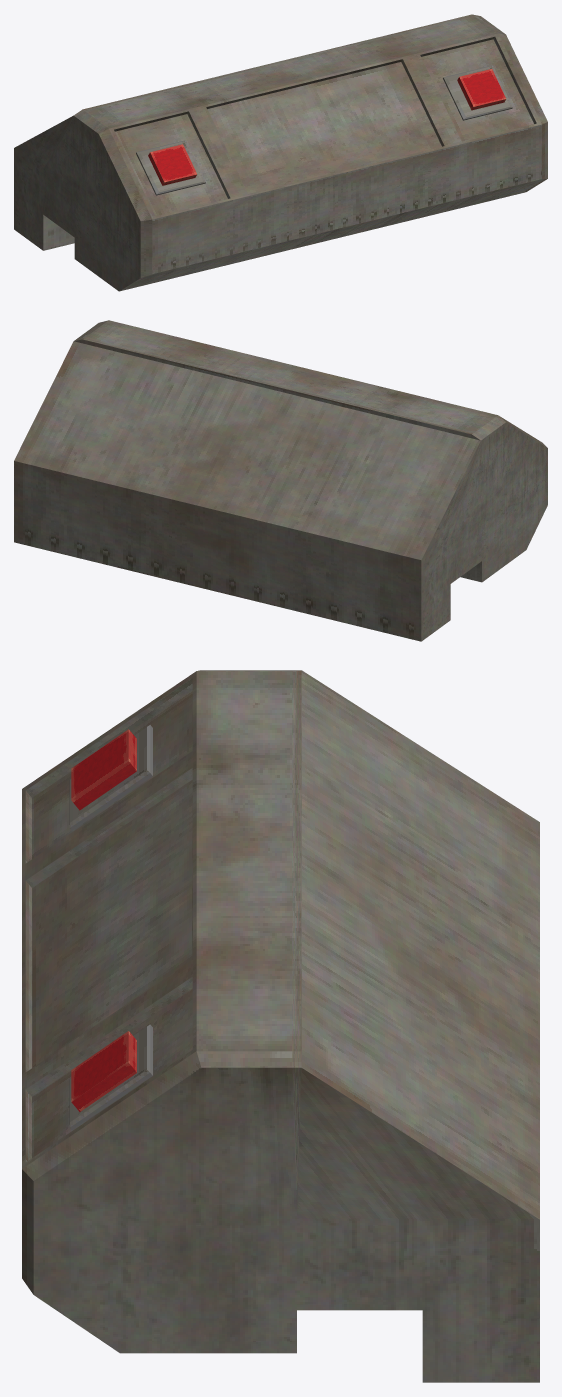
The model's file is console.glb.
The picture shows the model from 3 angles, top to bottom: view 1: azimuth 30°, elevation 25°; view 2: azimuth 150°, elevation 25°; view 3: azimuth 270°, elevation 25°; orthographic projection. The views are drawn at different scales.
Parts seen in each view (by area): view 1: Base, LeftButton, RightButton, LeftButtonBase, RightButtonBase; view 2: Base; view 3: Base, RightButton, LeftButton, LeftButtonBase, RightButtonBase.
Part boxes in pixels (x1,y1,x2,y2): Base: (14,14,547,291); LeftButton: (148,144,197,185); RightButton: (457,69,506,110); LeftButtonBase: (136,140,205,195); RightButtonBase: (443,65,512,120); Base: (14,320,547,641); Base: (22,670,539,1382); RightButton: (71,1031,136,1111); LeftButton: (71,729,136,810); LeftButtonBase: (69,725,152,830); RightButtonBase: (69,1024,152,1130).
Bounding box in the file's own units: 0.1787 × 0.0677 × 0.0984.
Materials: 3 (3 with a texture image).
